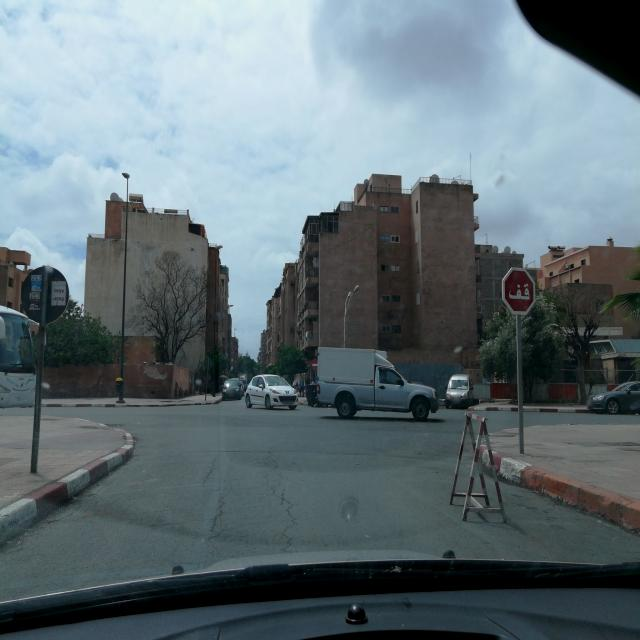car: (316, 347, 438, 421), (244, 374, 298, 410), (587, 380, 640, 414), (445, 374, 472, 409), (222, 377, 242, 401), (238, 376, 248, 389)
